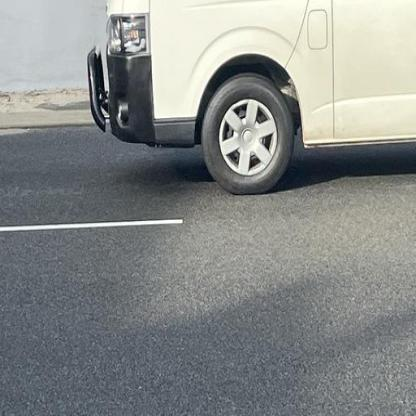Tire: (201, 73, 294, 195)
